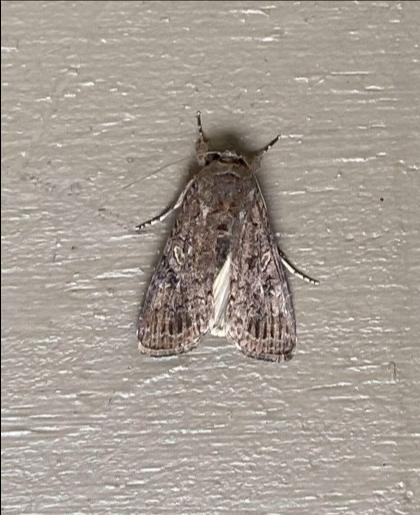army worm adult: (126, 106, 326, 375)
